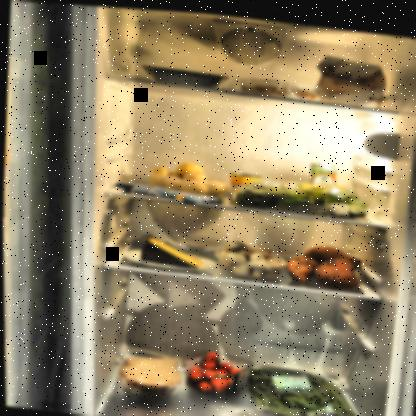cheese: (137, 233, 202, 266)
chocolate: (112, 177, 224, 205)
corn: (225, 168, 265, 205)
green_beans: (245, 358, 362, 415)
heavy_cream: (307, 155, 339, 206)
mushrooms: (213, 235, 285, 278)
potato: (143, 154, 232, 195)
shrimp: (238, 77, 322, 97)
spinach: (232, 171, 374, 217)
strawberries: (181, 345, 249, 397)
sweet_potato: (284, 236, 367, 287)
